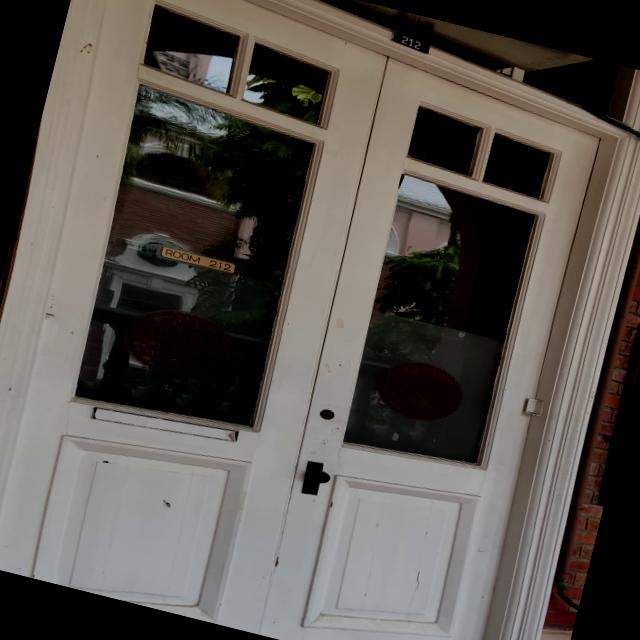room212: (384, 24, 436, 56)
room212Window: (154, 240, 246, 279)
